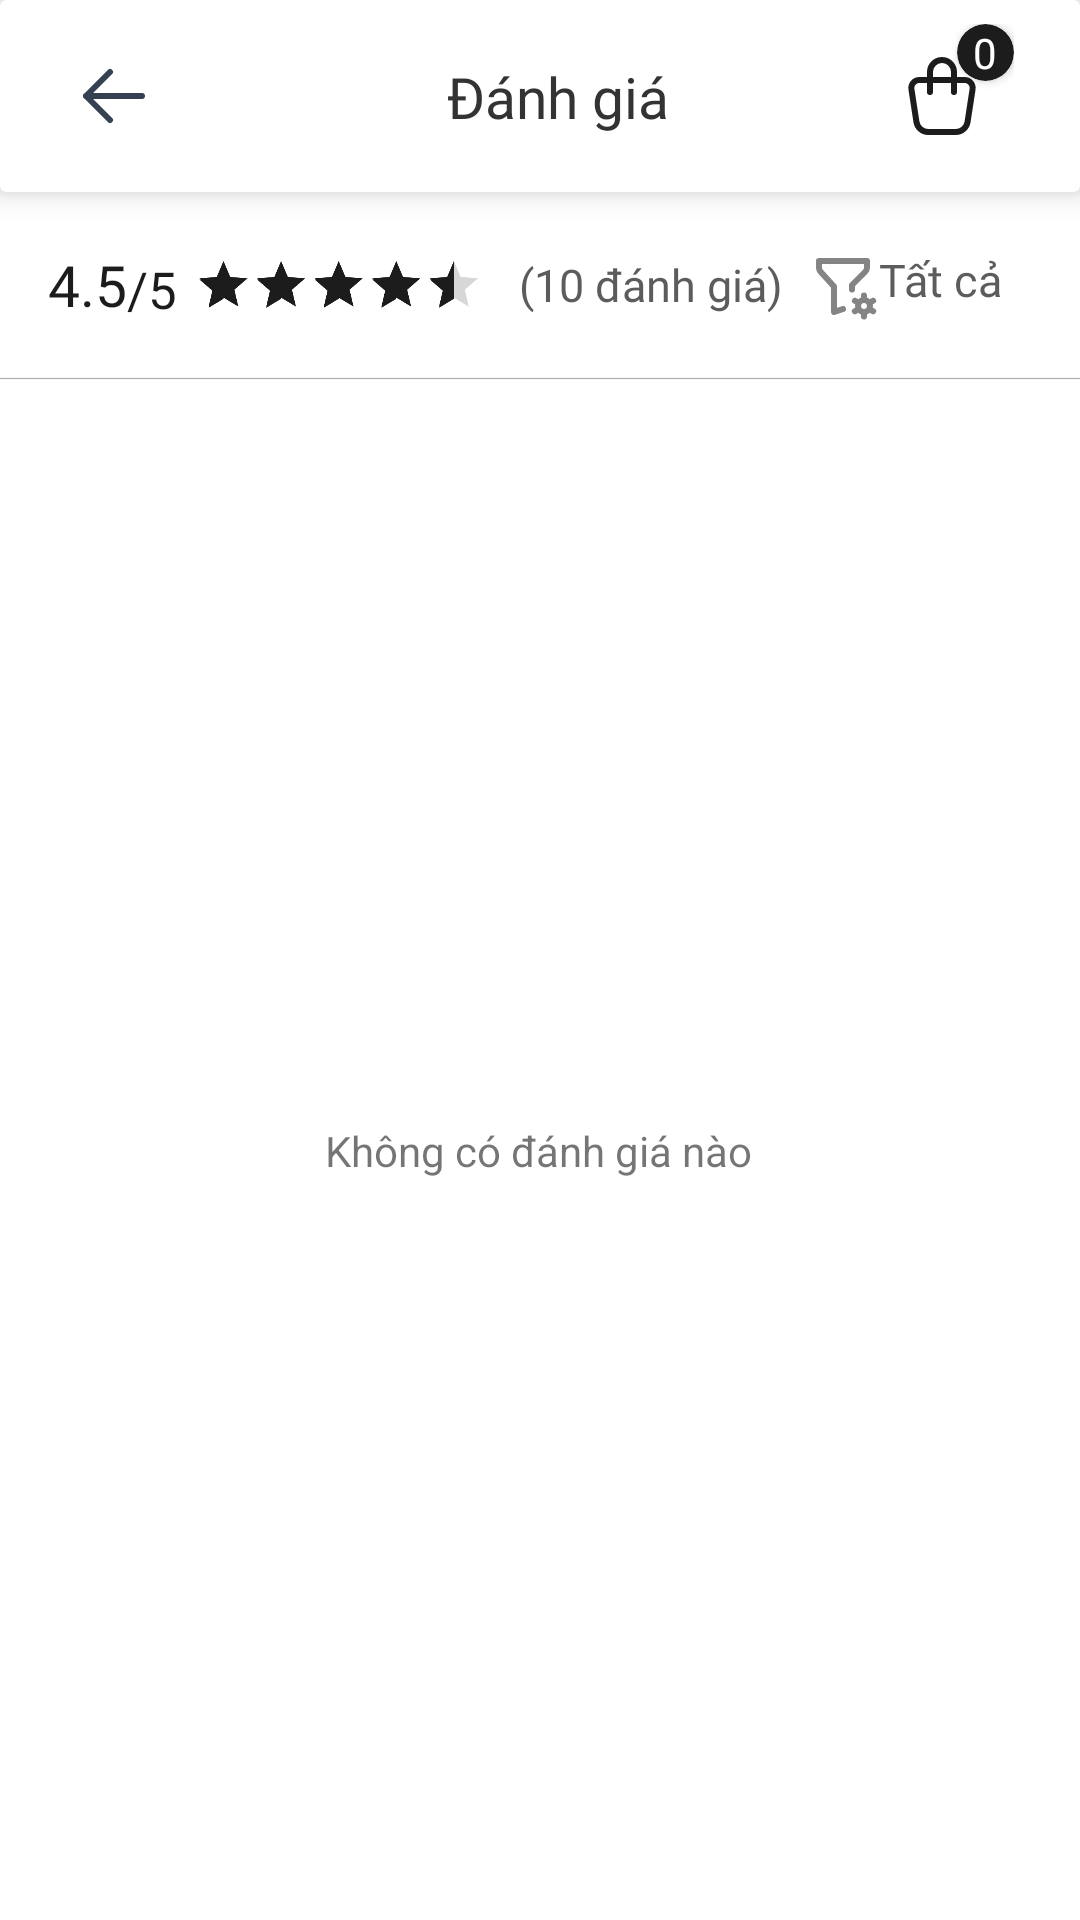

Where icons sit on this 1080 x 1920 app screen, as region(x1, y1, x2, y2):
arrow left: region(83, 69, 145, 123)
shopping bag: region(908, 48, 990, 135)
